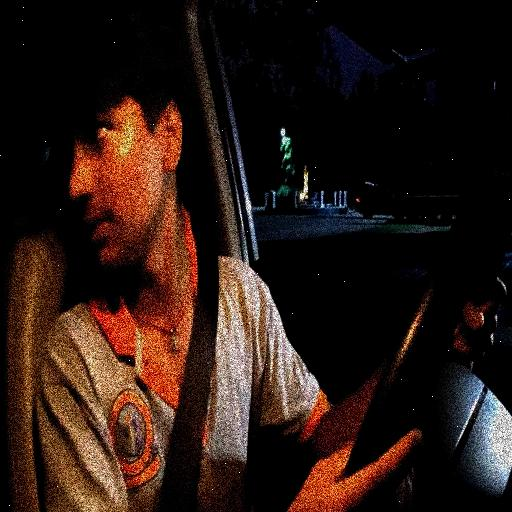Reaching_behind: (47, 21, 291, 512)
